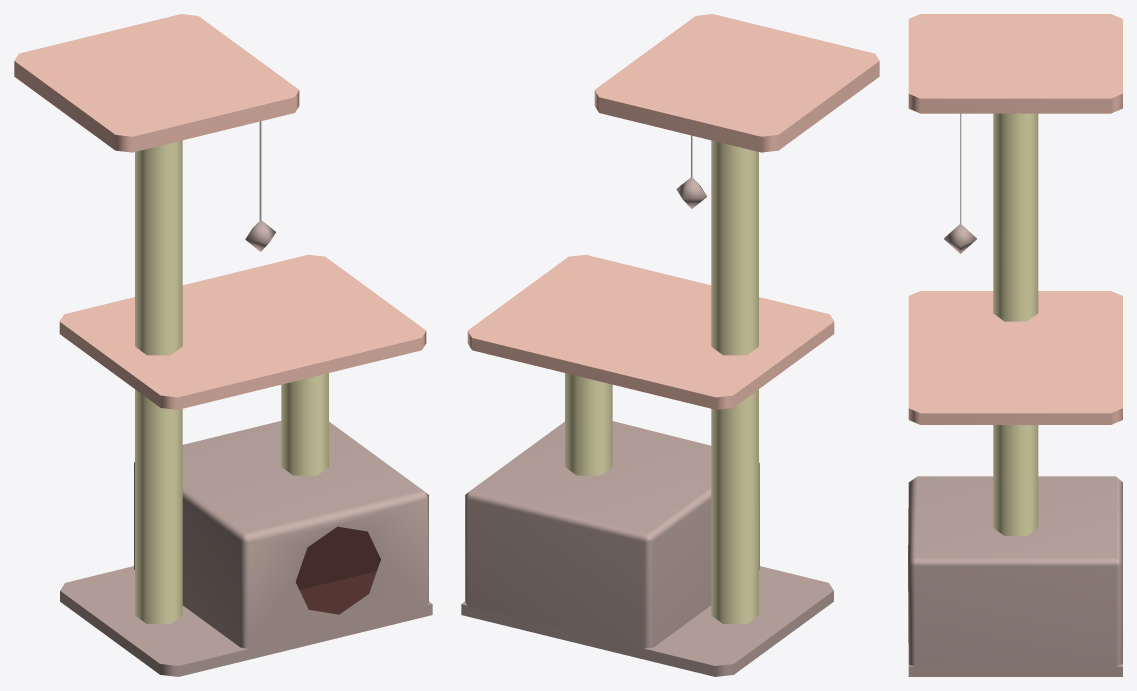
Rendered from SM_scratching_post_001.FBX.
3 renders of one model, left to right at view 1: azimuth 30°, elevation 25°; view 2: azimuth 150°, elevation 25°; view 3: azimuth 270°, elevation 25°, orthographic. The views are drawn at different scales.
Visible parts, largest first — view 1: SM_scratching_post_001; view 2: SM_scratching_post_001; view 3: SM_scratching_post_001.
Boxes of the visible parts, left/top/right/bottom form: SM_scratching_post_001: left=14, top=14, right=432, bottom=676; SM_scratching_post_001: left=461, top=14, right=879, bottom=676; SM_scratching_post_001: left=908, top=14, right=1122, bottom=676.
Bounding box in the file's own units: 69.87 × 44.33 × 118.
